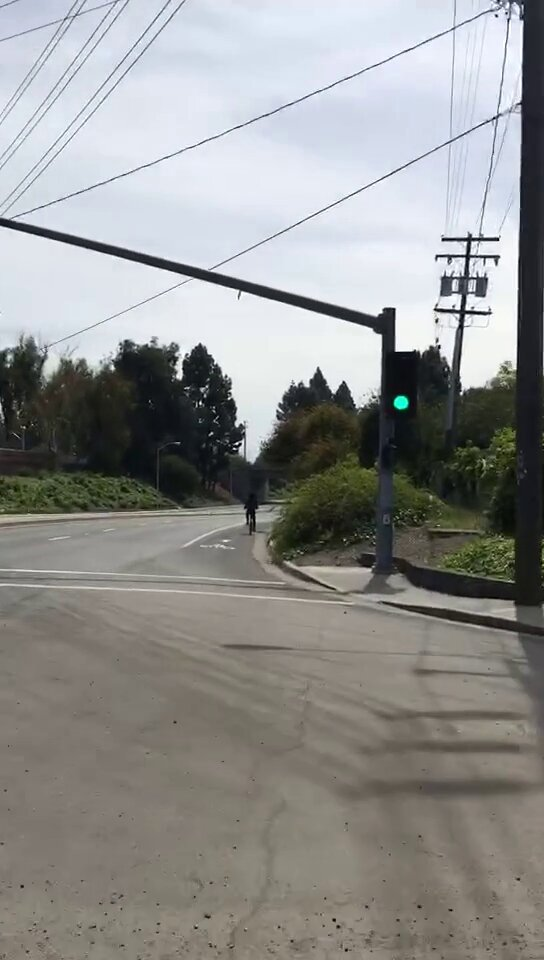green_light: (388, 353, 417, 417)
